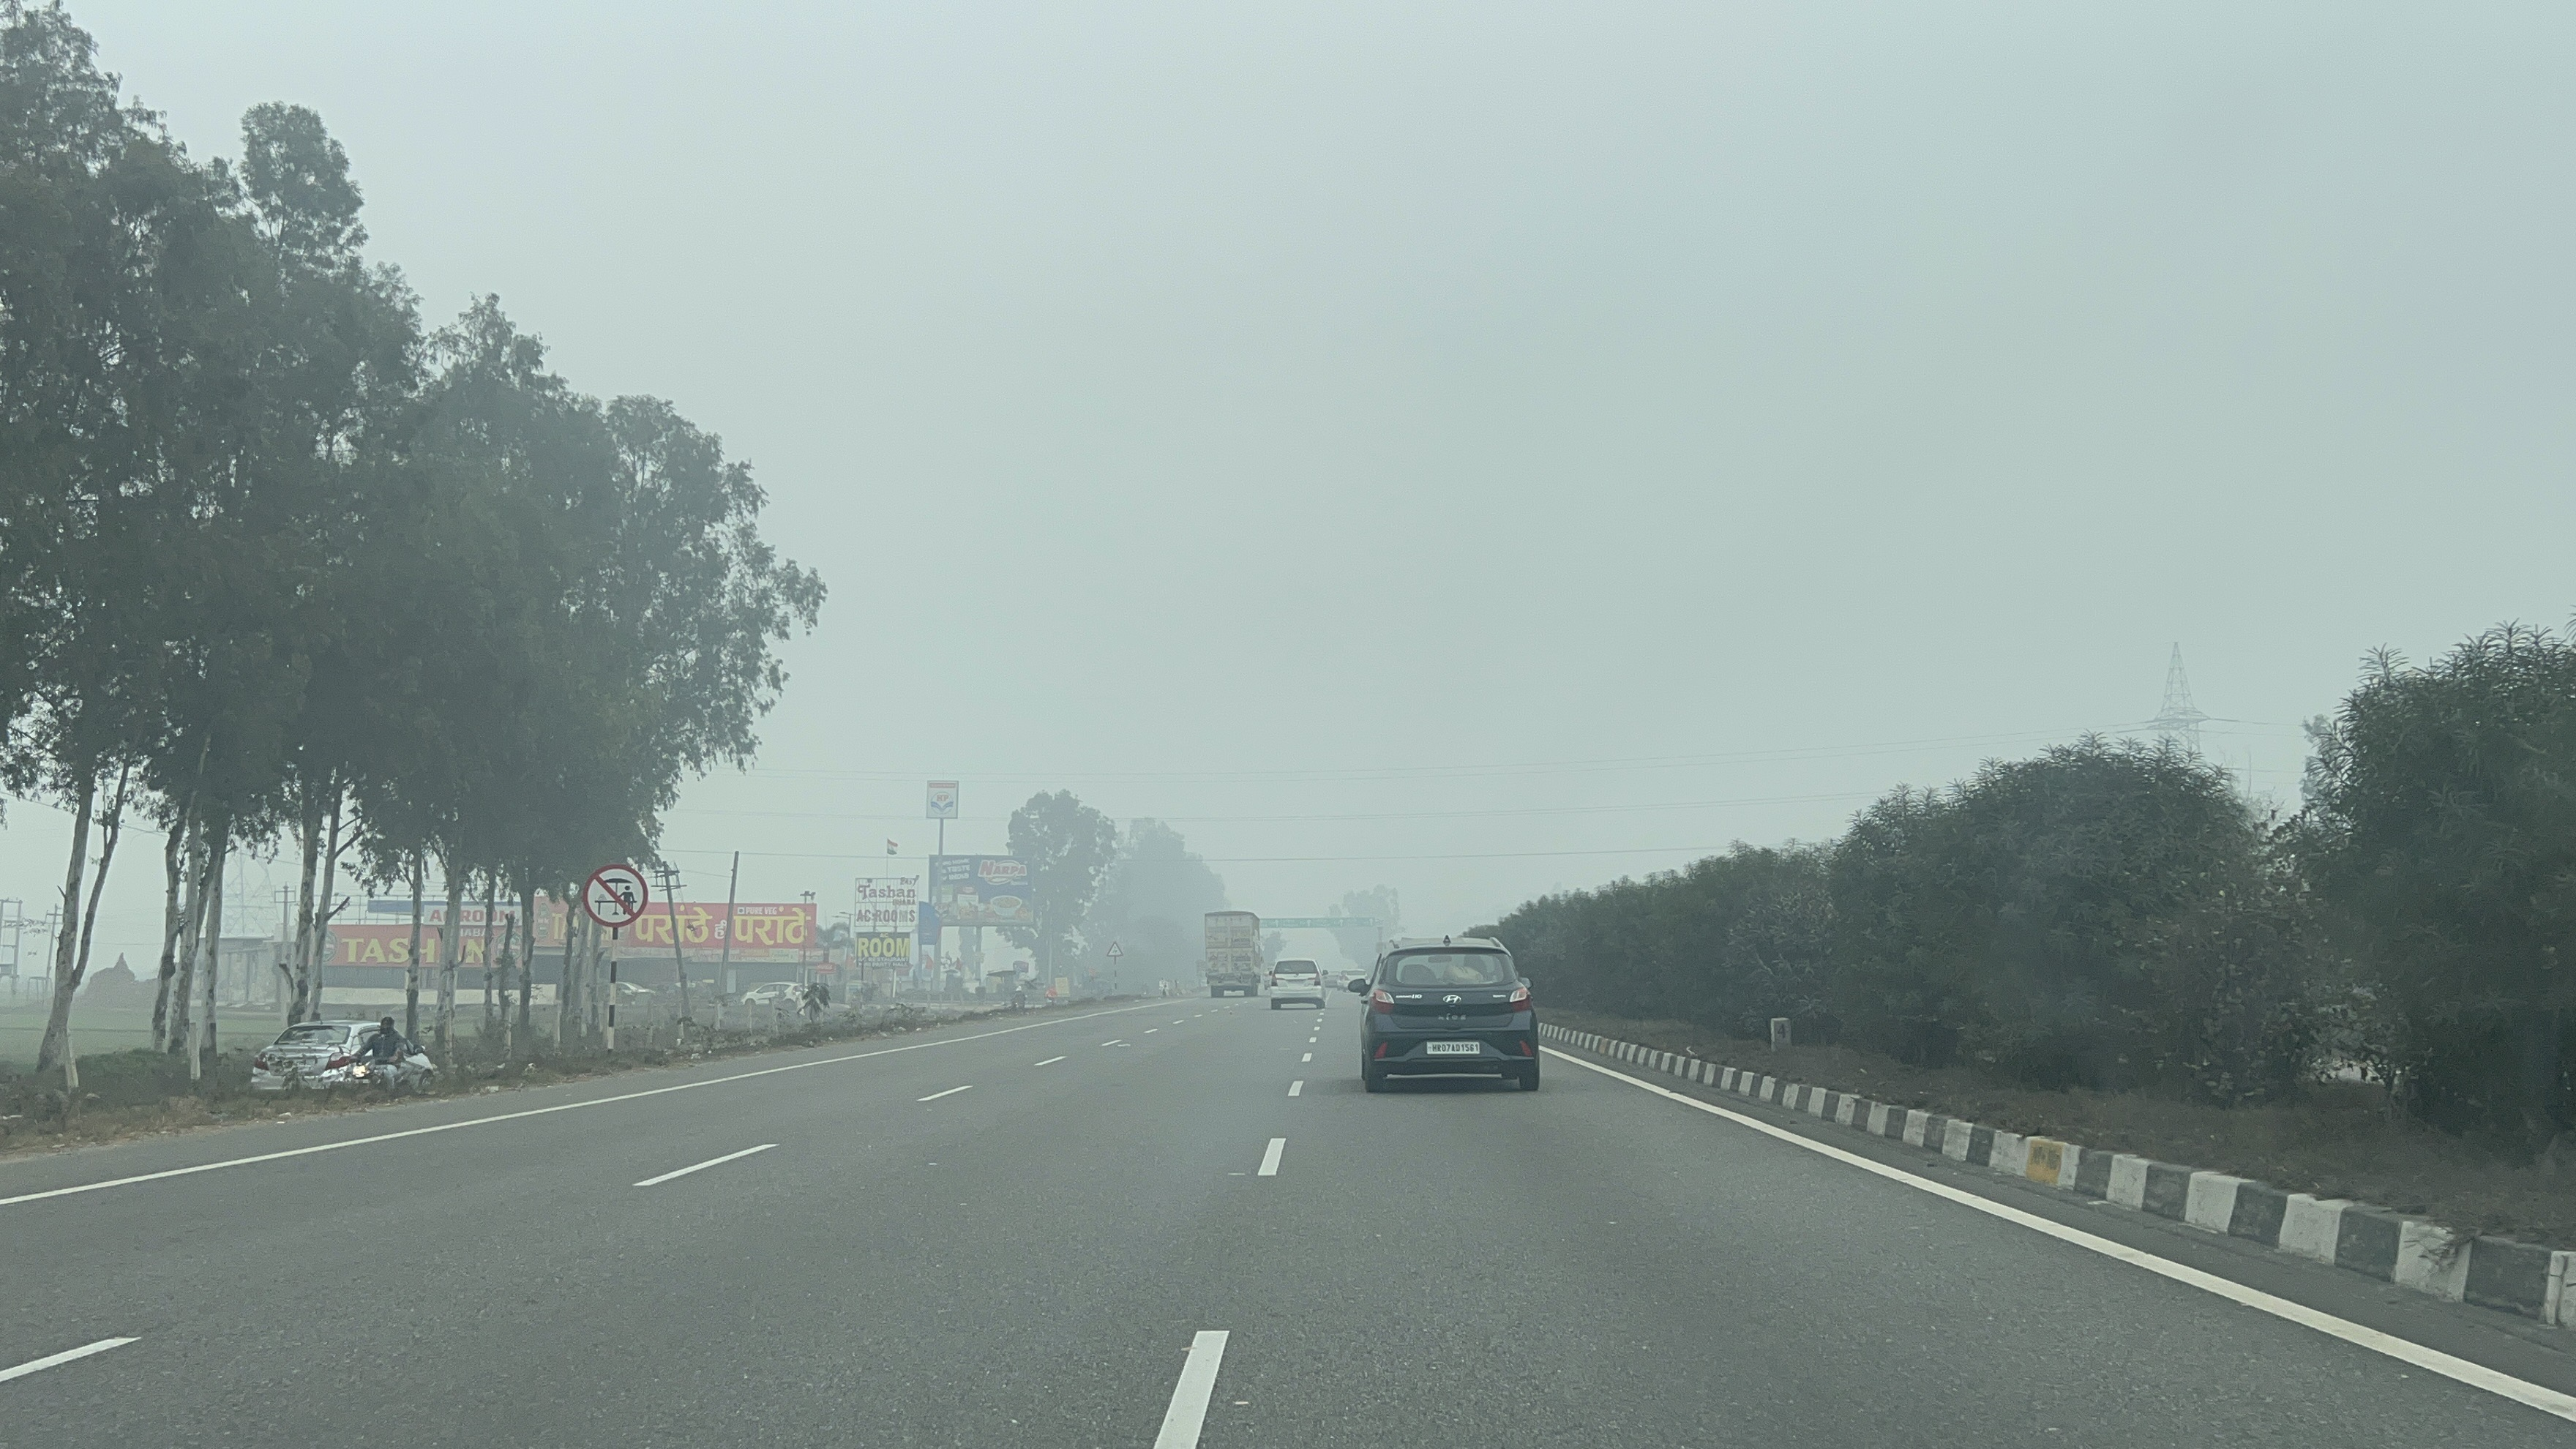Mandatory: (575, 856, 660, 934)
Warning: (1102, 936, 1127, 962)
